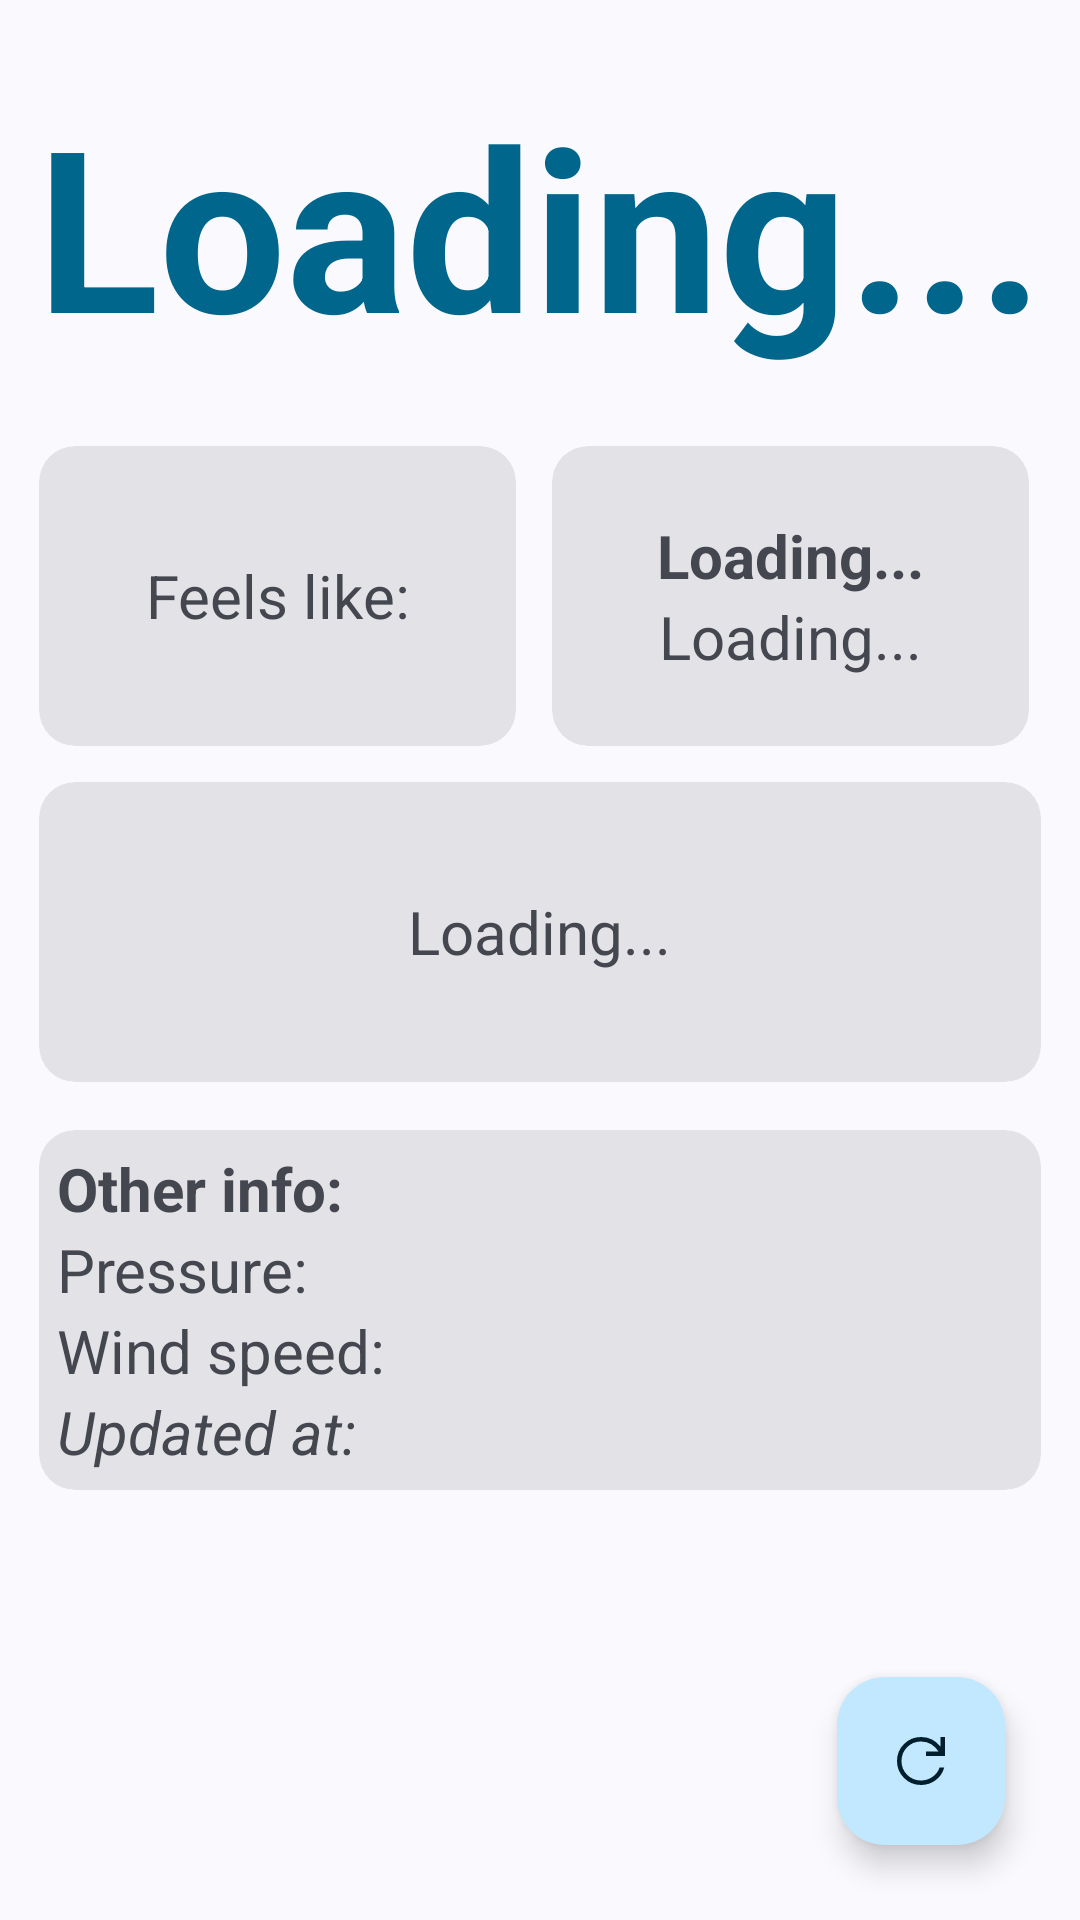

Point at icon controls on the screen. Image size 1080 × 1920, points as (x=x, y=y).
update: (x=921, y=1761)
